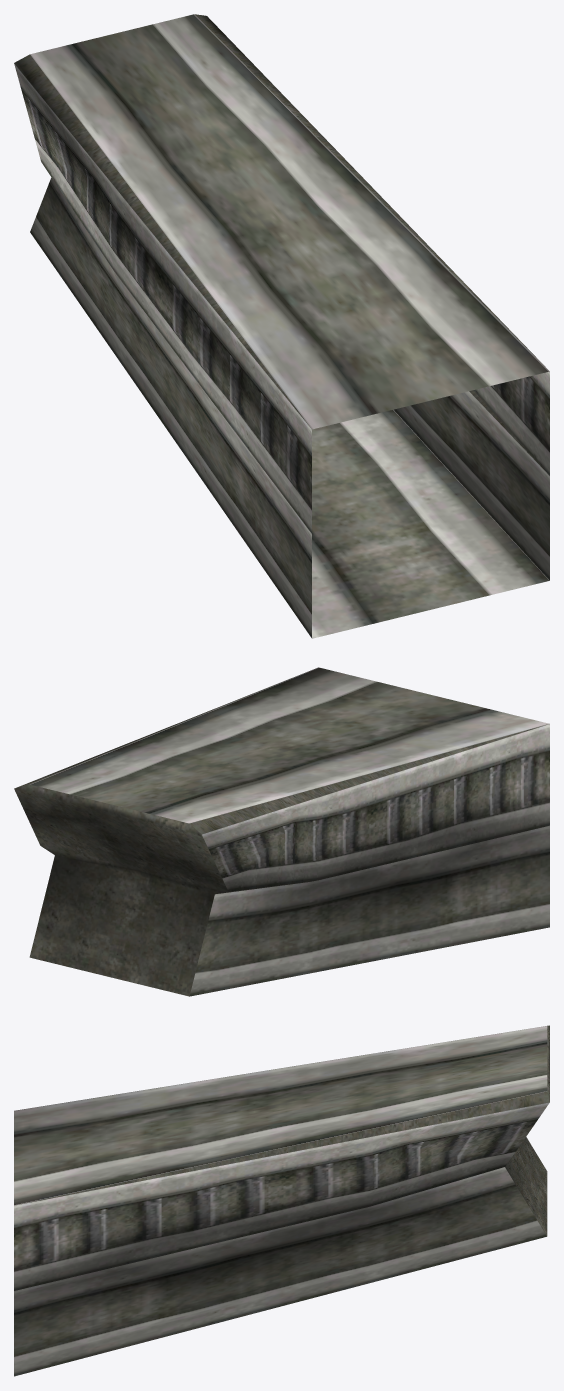
Rendered from DWARF_PALACE_MAINHALL_COLUMN_DEBREE01.fbx.
The picture shows the model from 3 angles, top to bottom: view 1: azimuth 30°, elevation 25°; view 2: azimuth 150°, elevation 25°; view 3: azimuth 270°, elevation 25°; orthographic projection. The views are drawn at different scales.
Parts seen in each view (by area): view 1: DWARF_PALACE_MAINHALL_COLUMN_DEBREE01; view 2: DWARF_PALACE_MAINHALL_COLUMN_DEBREE01; view 3: DWARF_PALACE_MAINHALL_COLUMN_DEBREE01.
Part boxes in pixels (left/top/right/bottom): DWARF_PALACE_MAINHALL_COLUMN_DEBREE01: left=14, top=14, right=549, bottom=638; DWARF_PALACE_MAINHALL_COLUMN_DEBREE01: left=14, top=667, right=549, bottom=996; DWARF_PALACE_MAINHALL_COLUMN_DEBREE01: left=14, top=1025, right=549, bottom=1376.
Bounding box in the file's own units: 23793 × 32000 × 56831.
3 materials, 3 textured.
